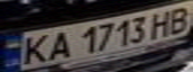1: (75, 24, 100, 55), (112, 17, 136, 48)
3: (127, 14, 154, 44)
7: (93, 20, 118, 52)
A: (42, 28, 75, 61)
B: (163, 3, 193, 35)
H: (145, 7, 178, 38)
K: (15, 32, 54, 66)
